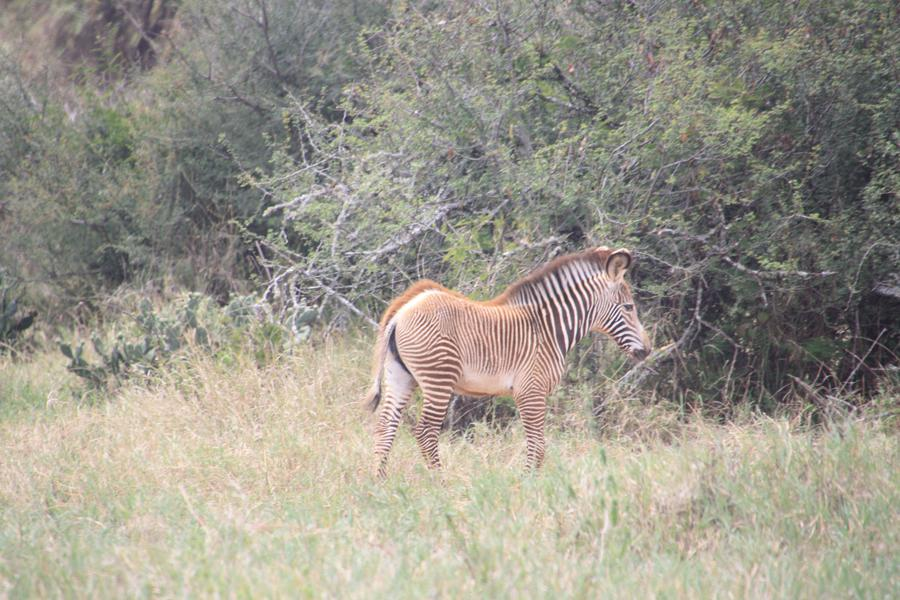zebra_grevys: (377, 269, 552, 399)
